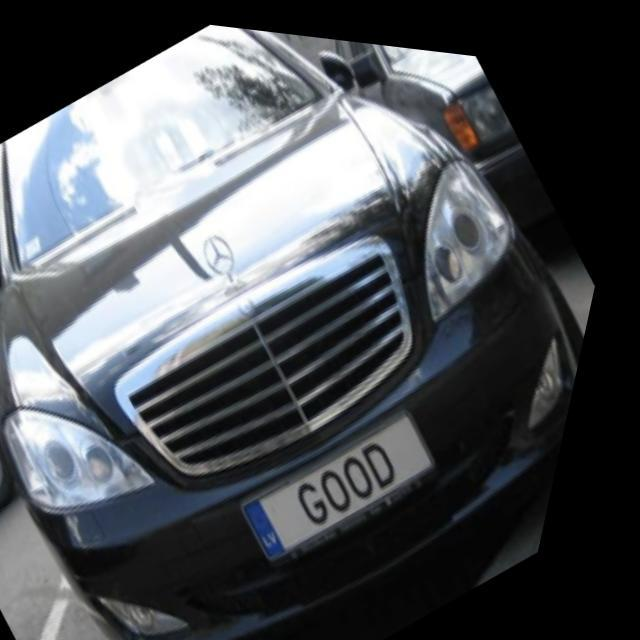license_plate: (241, 378, 471, 576)
